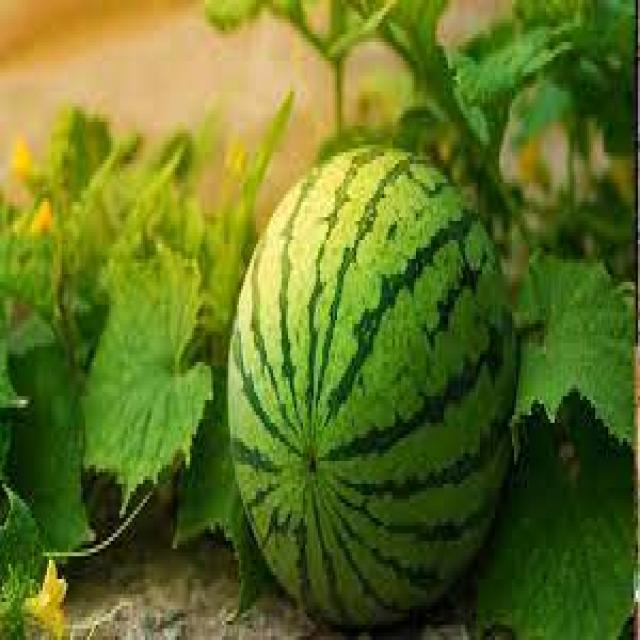watermelon: (224, 137, 523, 625)
